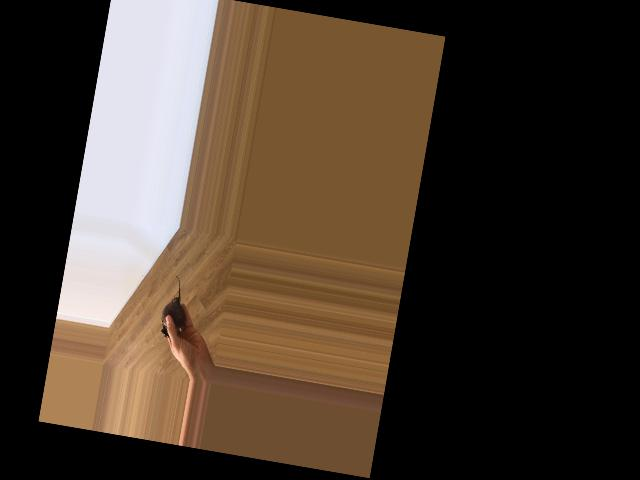beet: (158, 274, 191, 339)
